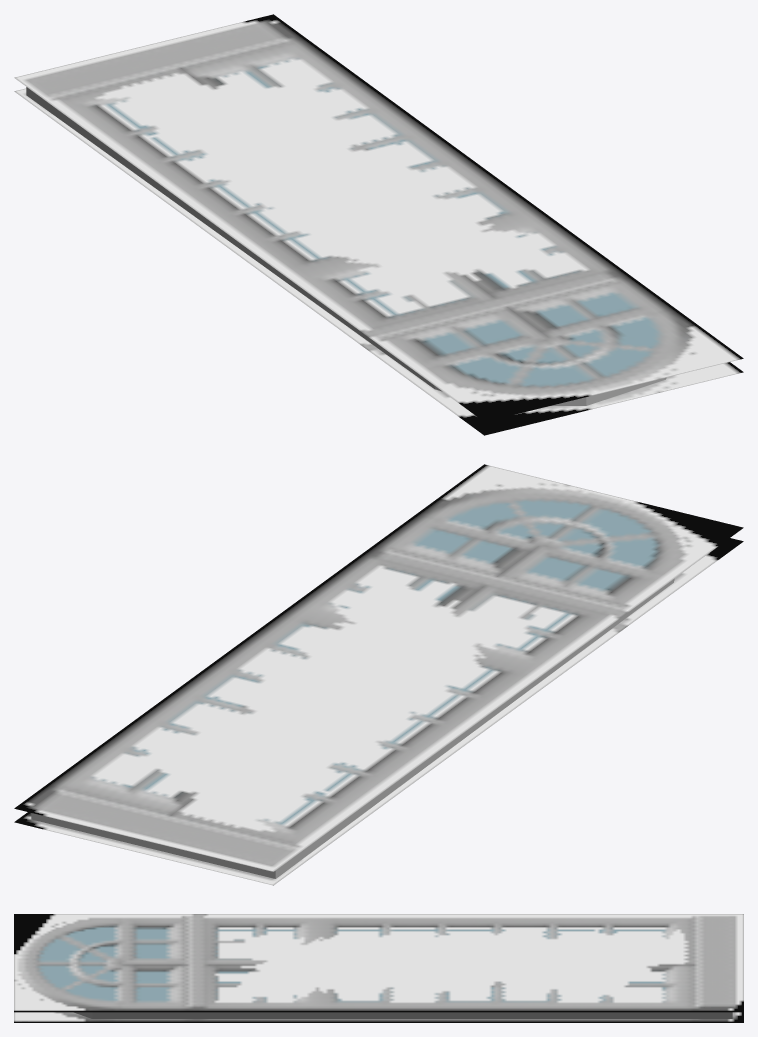
The model's file is pz_native_fixtures_windows_01_77_frame.obj.
3 views of the same model, one above another, from view 1: azimuth 30°, elevation 25°; view 2: azimuth 150°, elevation 25°; view 3: azimuth 270°, elevation 25° (orthographic). The views are drawn at different scales.
Parts seen in each view (by area): view 1: pz_native_fixtures_windows_01_77_frame; view 2: pz_native_fixtures_windows_01_77_frame; view 3: pz_native_fixtures_windows_01_77_frame.
Part boxes in pixels (box(x1,y1,x2,y2)): pz_native_fixtures_windows_01_77_frame: box(14, 14, 743, 435); pz_native_fixtures_windows_01_77_frame: box(14, 464, 743, 885); pz_native_fixtures_windows_01_77_frame: box(14, 914, 743, 1022).
Size of the model in its own units: 0.7969 by 0.04 by 2.5.
Materials: 1 (1 with a texture image).
